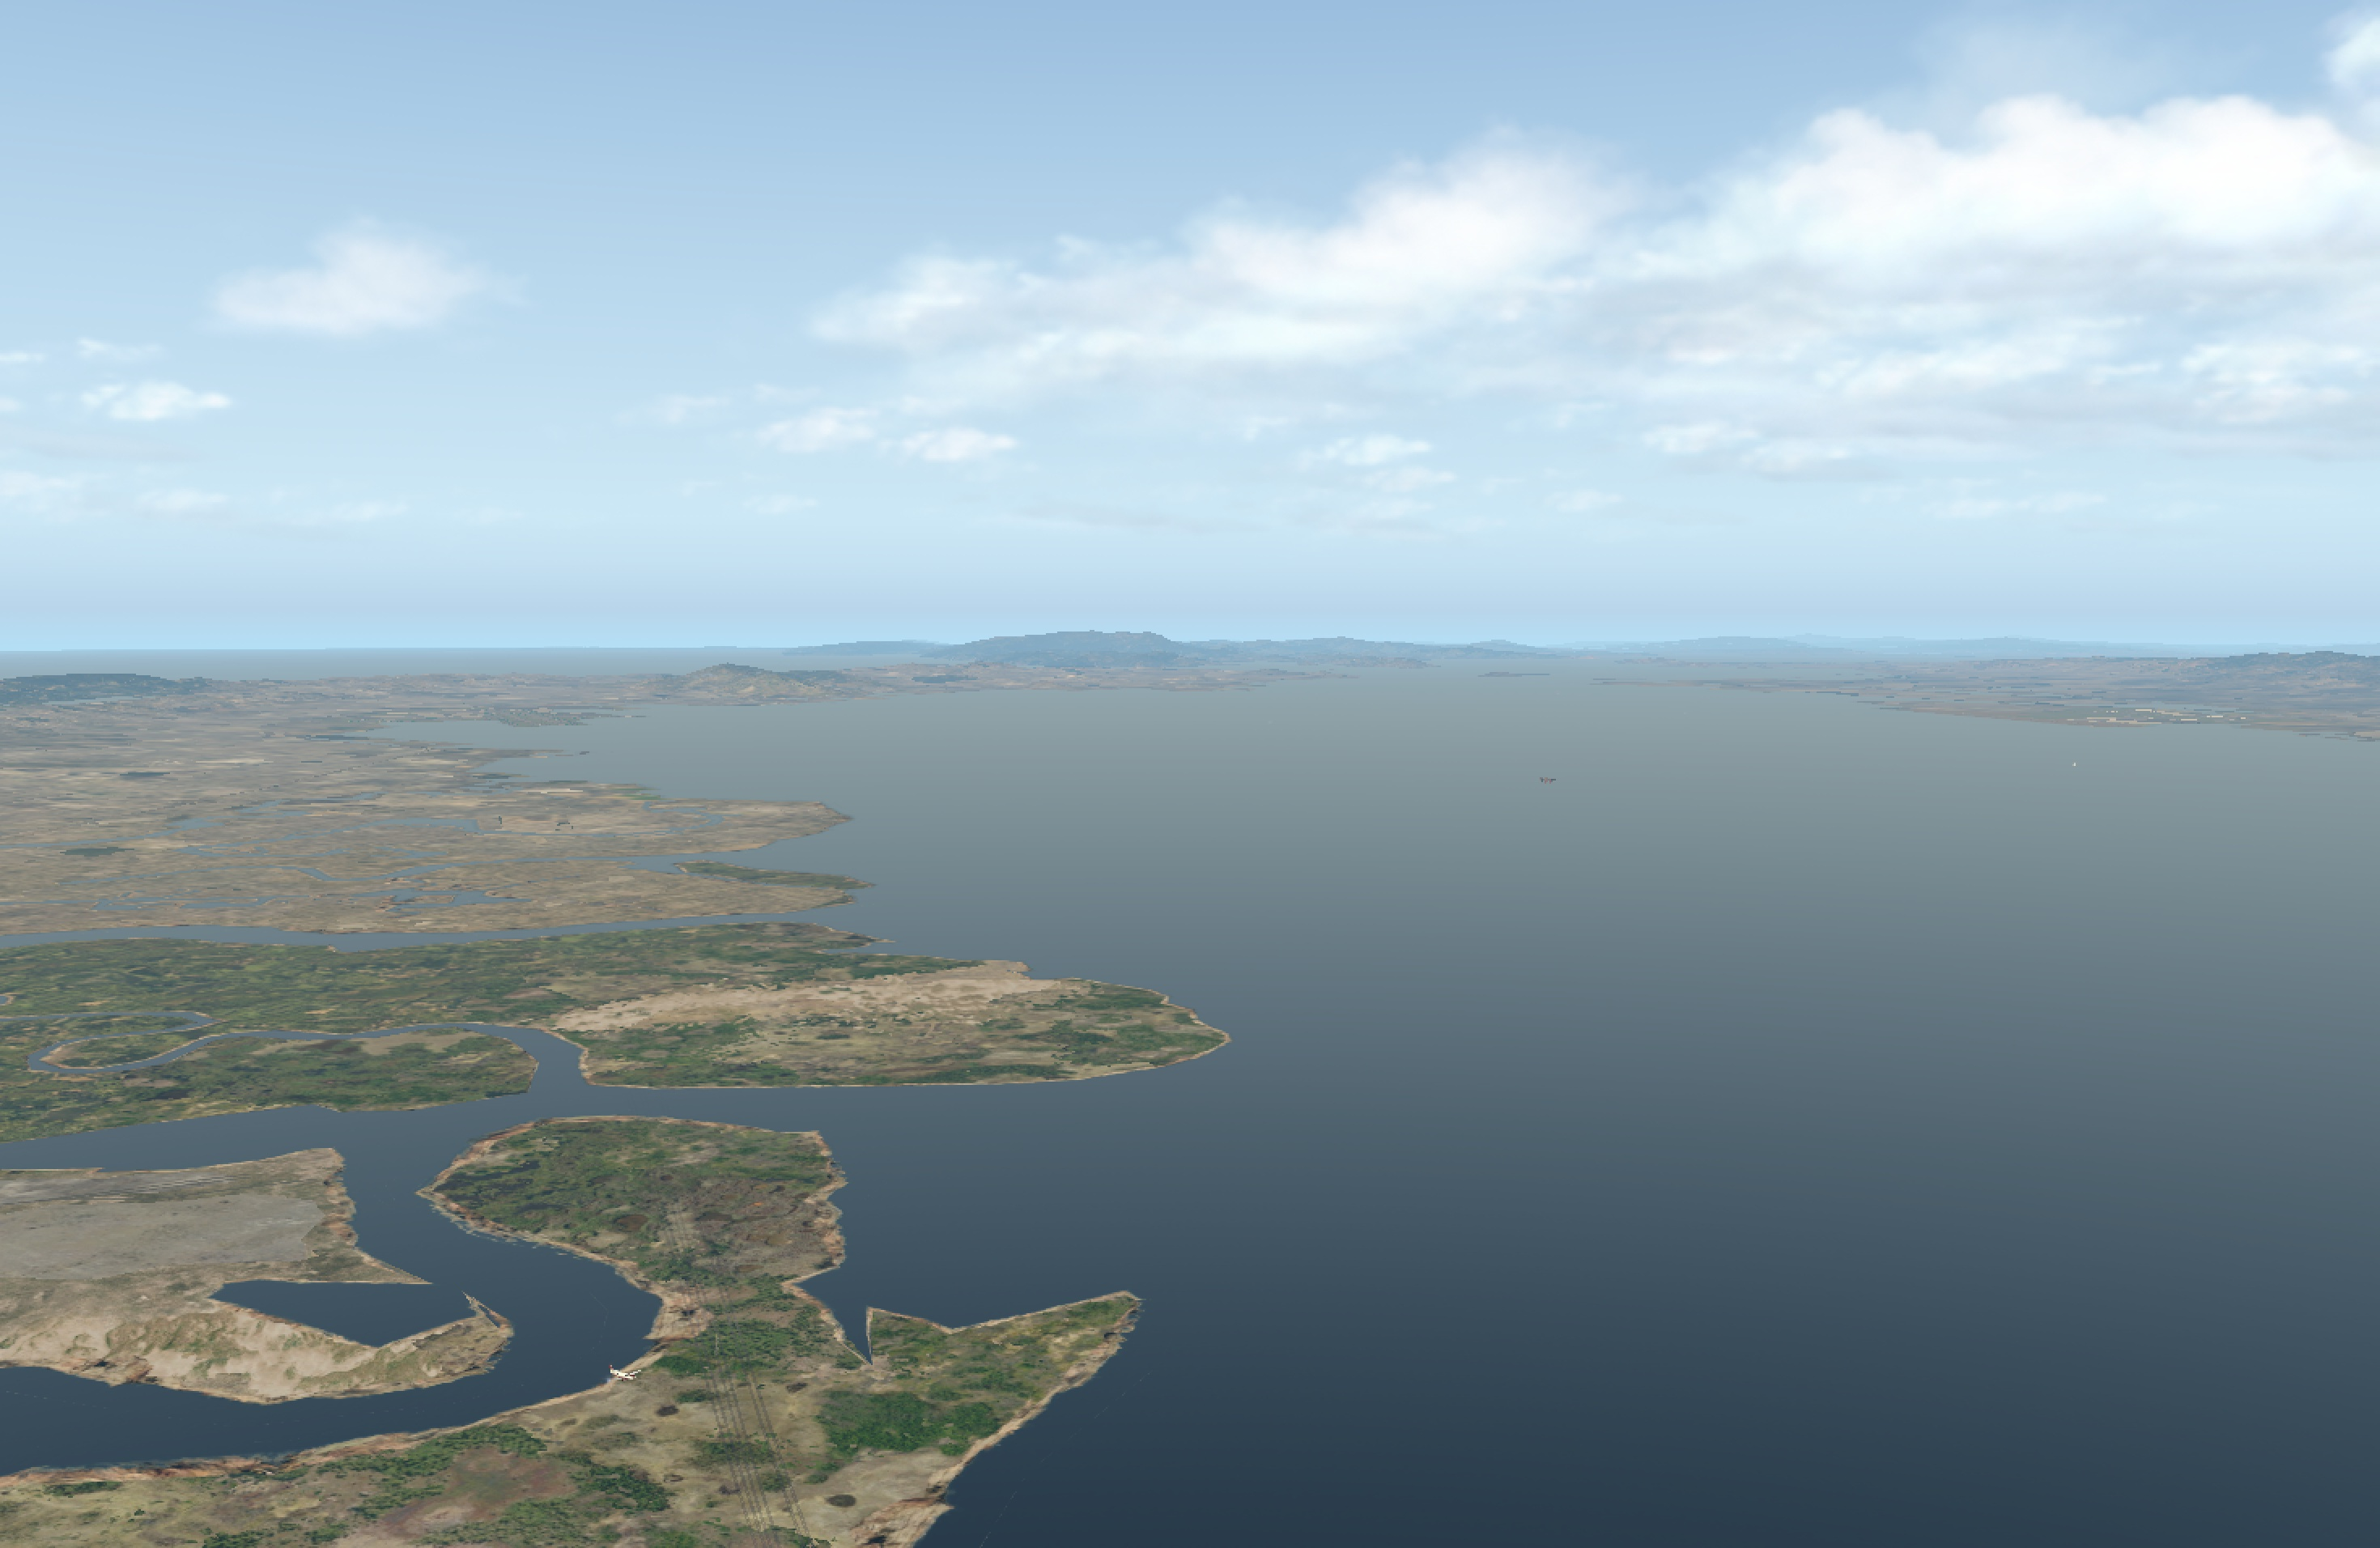aircraft: (604, 1369, 647, 1387)
